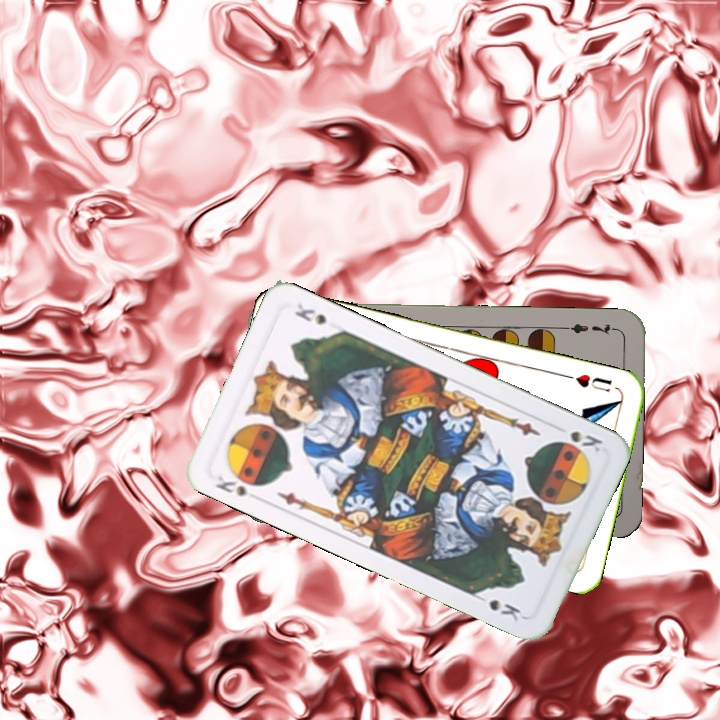E7: (561, 319, 620, 337)
HU: (571, 370, 614, 395)
SK: (555, 426, 605, 456), (211, 471, 251, 500)
